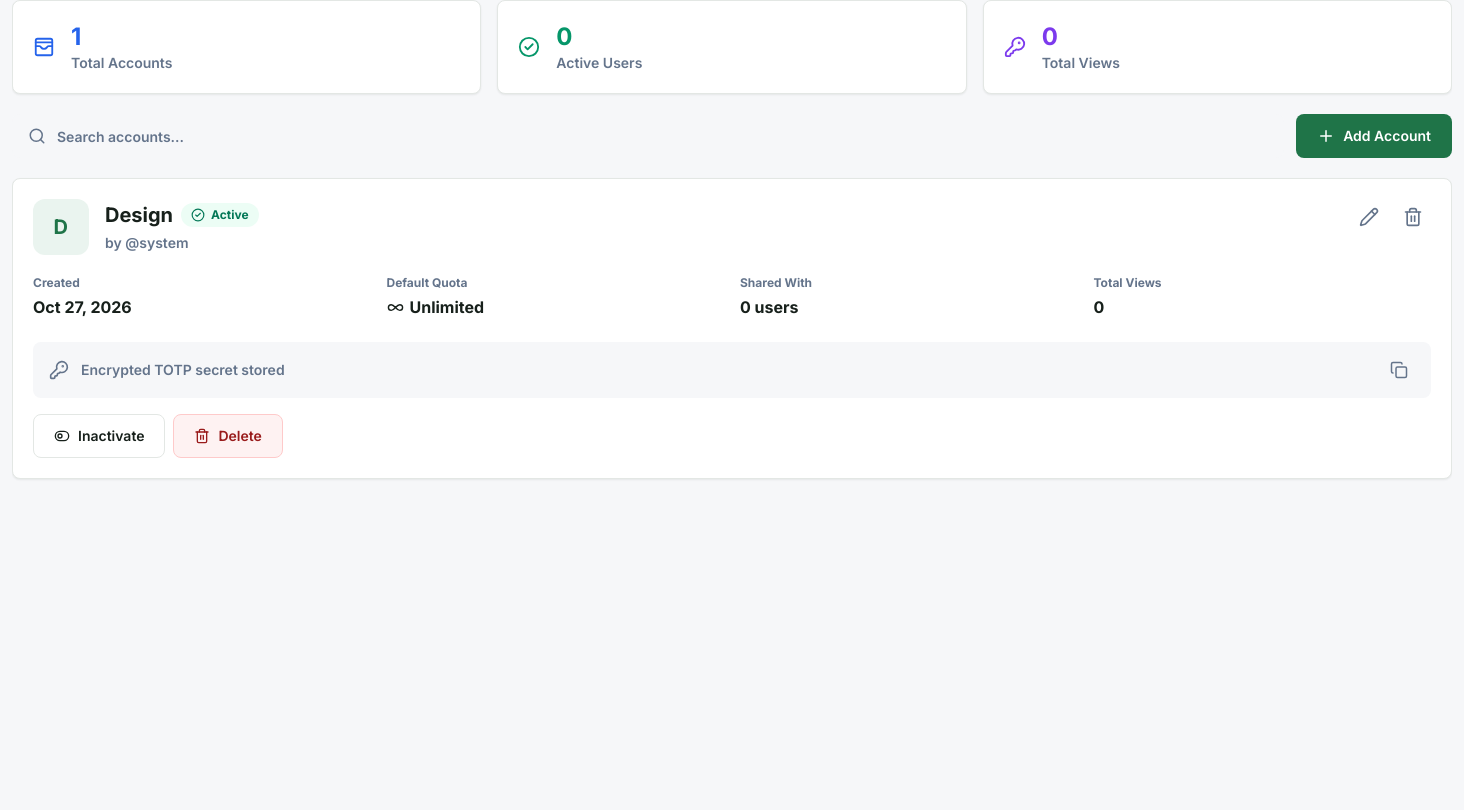
Test case: admin workflows › preserves edited account fields after a failed save
Click the button titled "Edit account": point(1369, 217) [1351,199,1387,235]
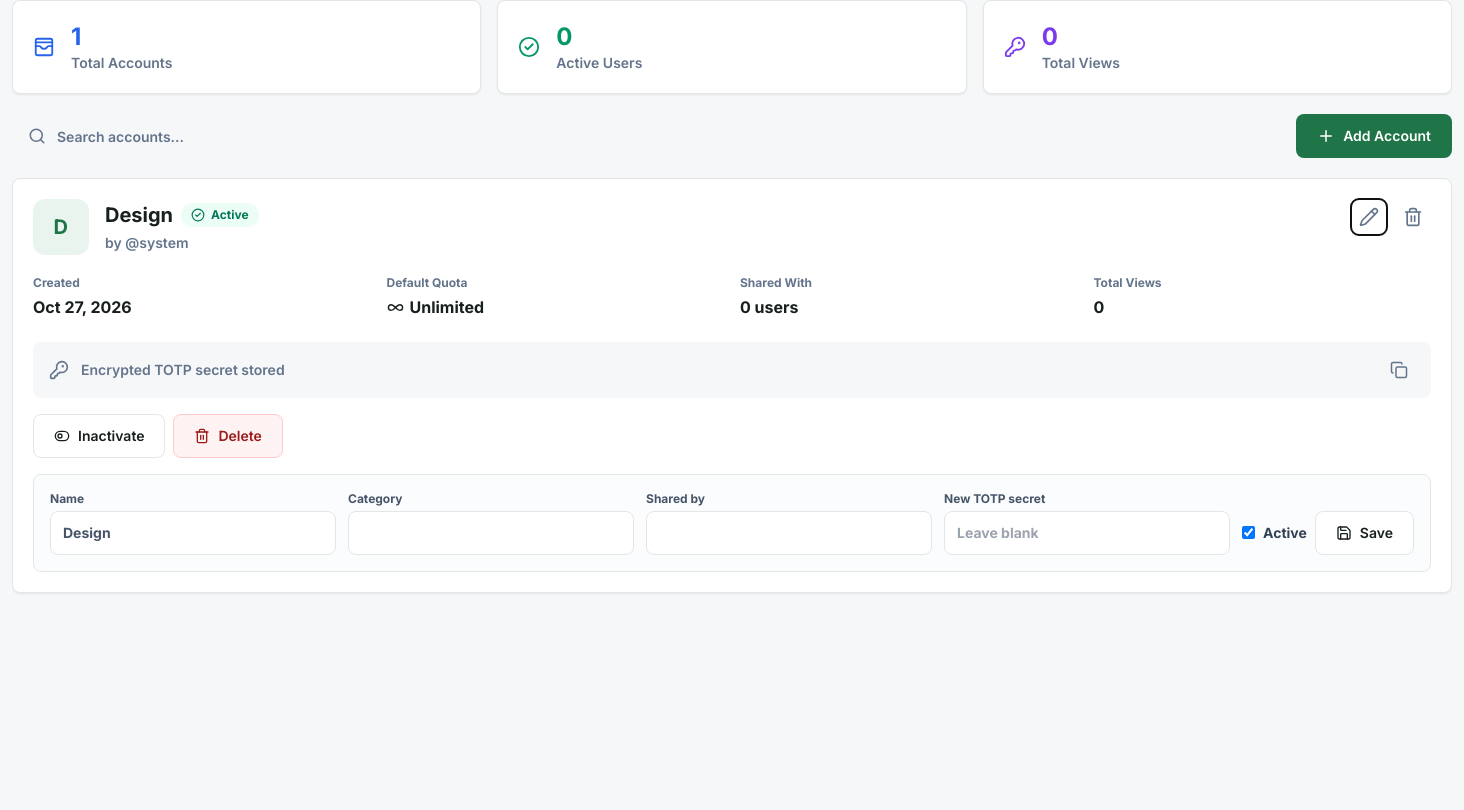
Replace the text in the field labelled "Name" with "New design account": point(193, 532) [50,510,336,554]
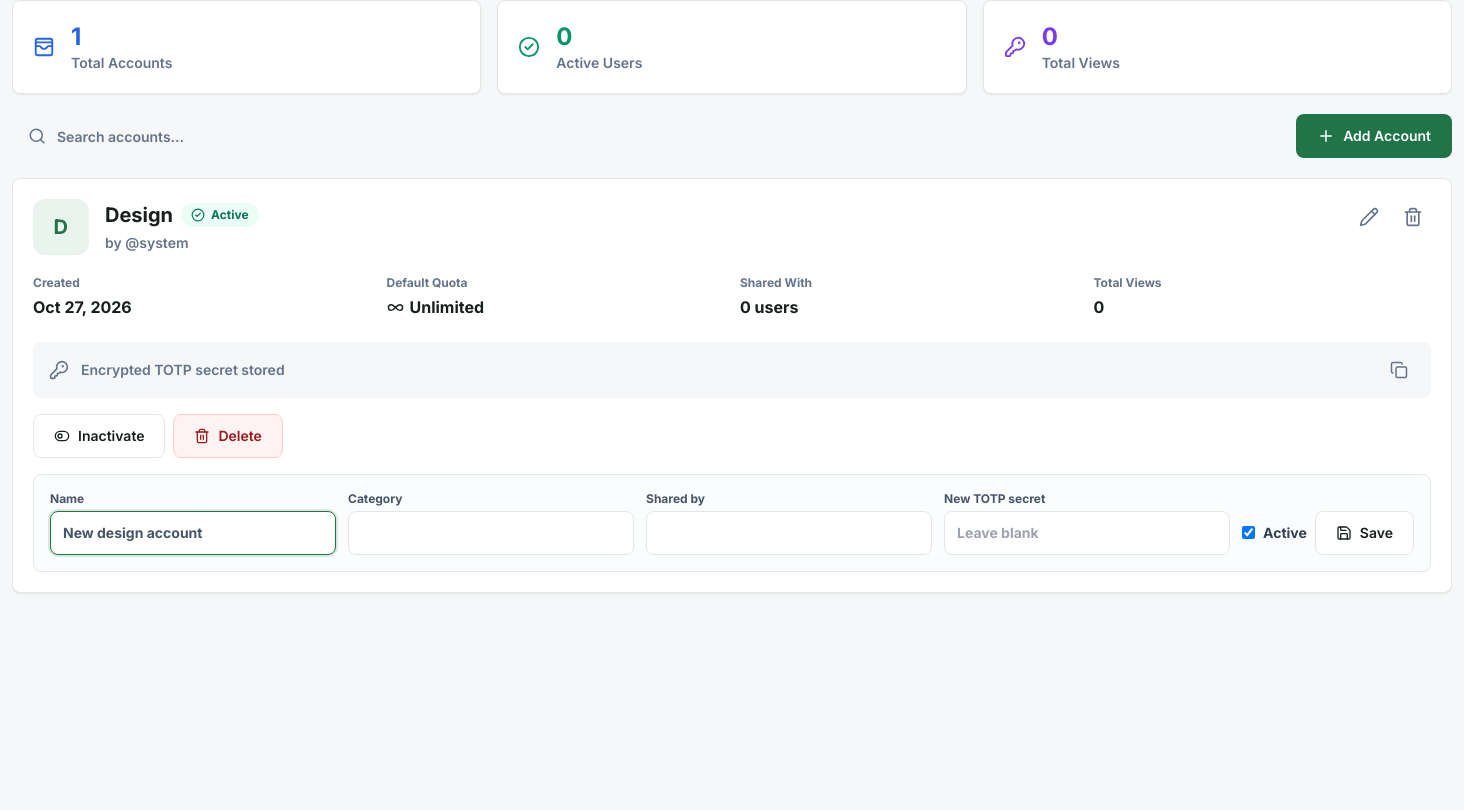
In the field labelled "New TOTP secret": point(1087, 532) [944,510,1230,554], type "JBSWY3DPEHPK3PXP"
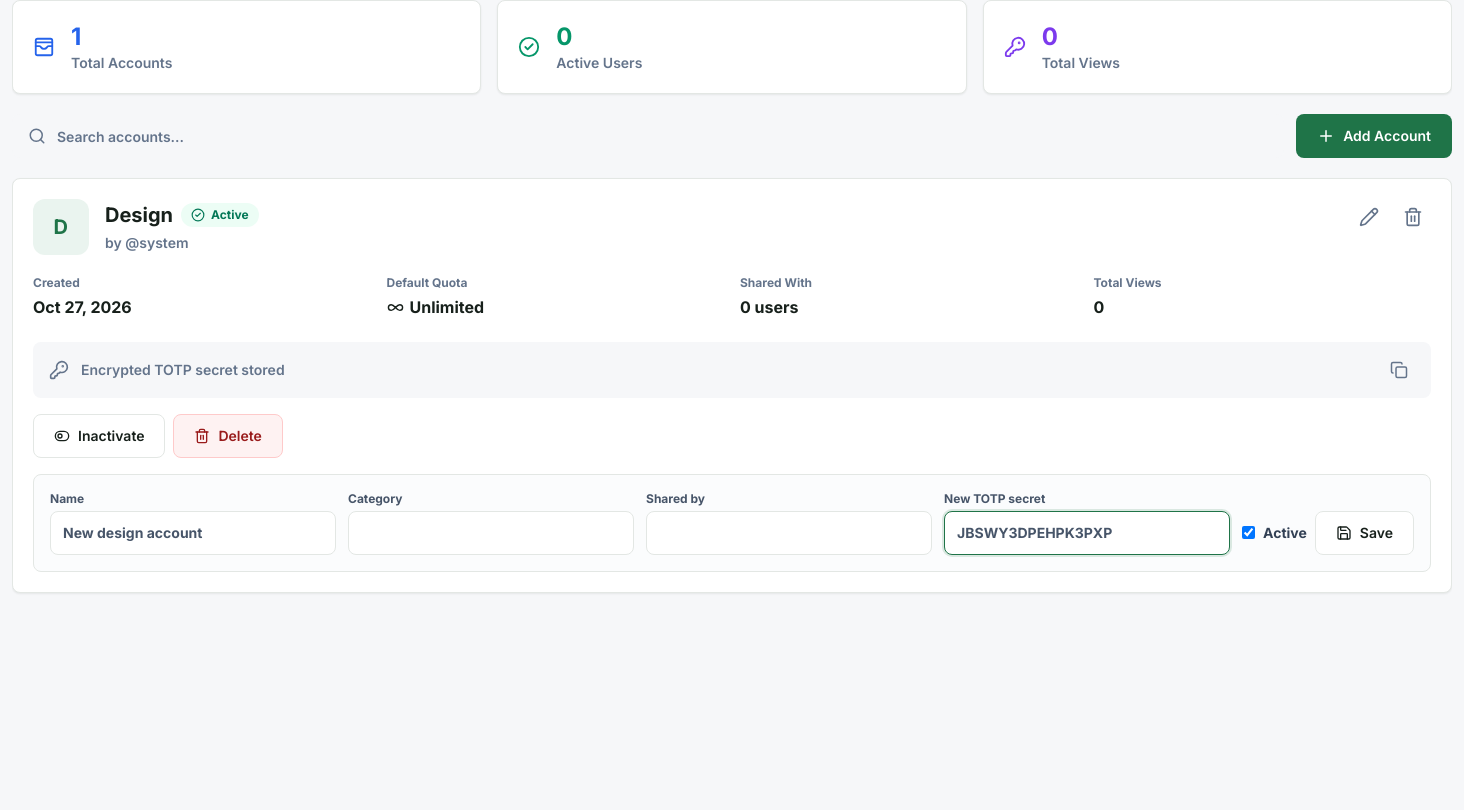
Click the button "Save": point(1364, 532) [1315,510,1414,554]
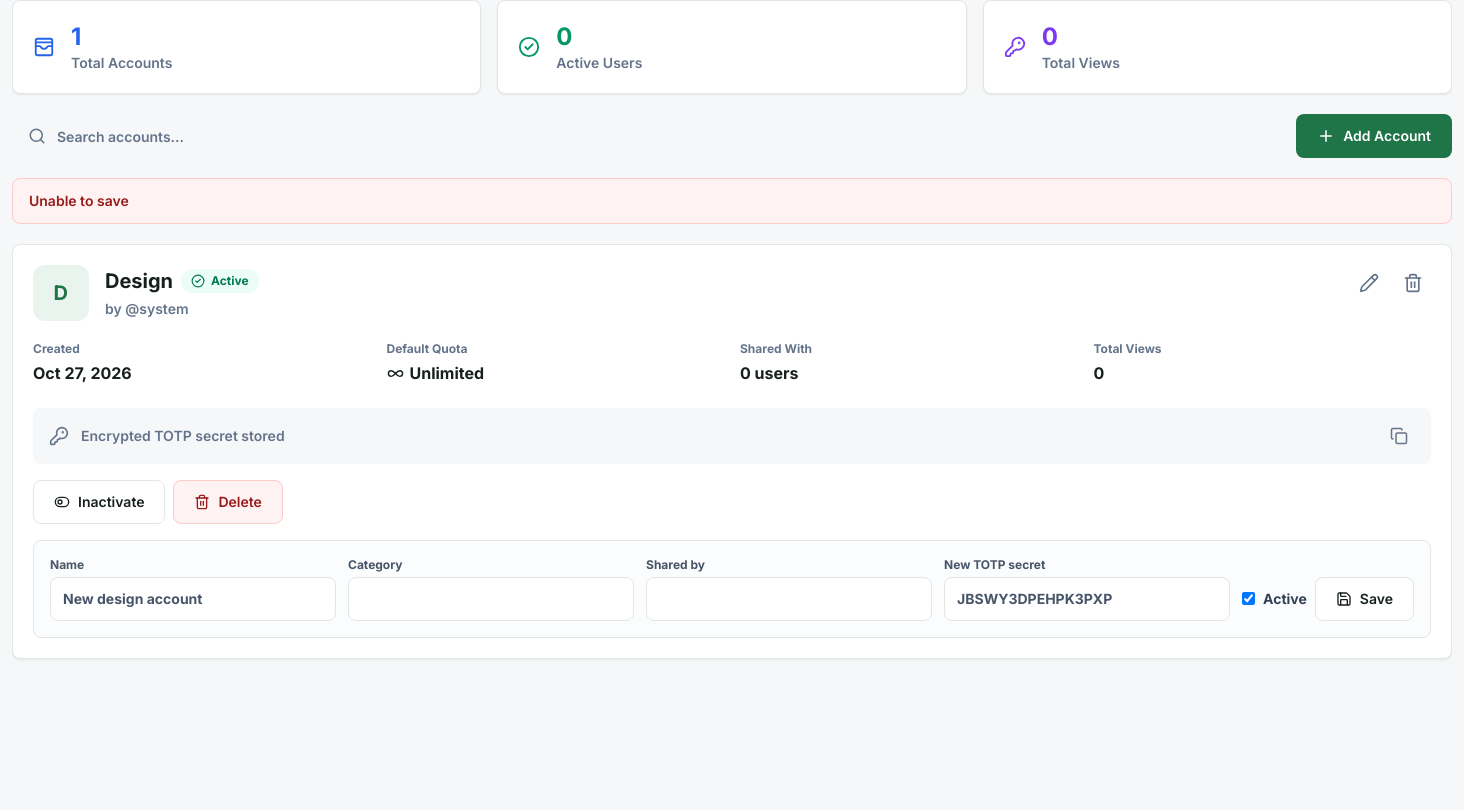
Expected: the text "Unable to save" is shown, [12,178,1452,224]
